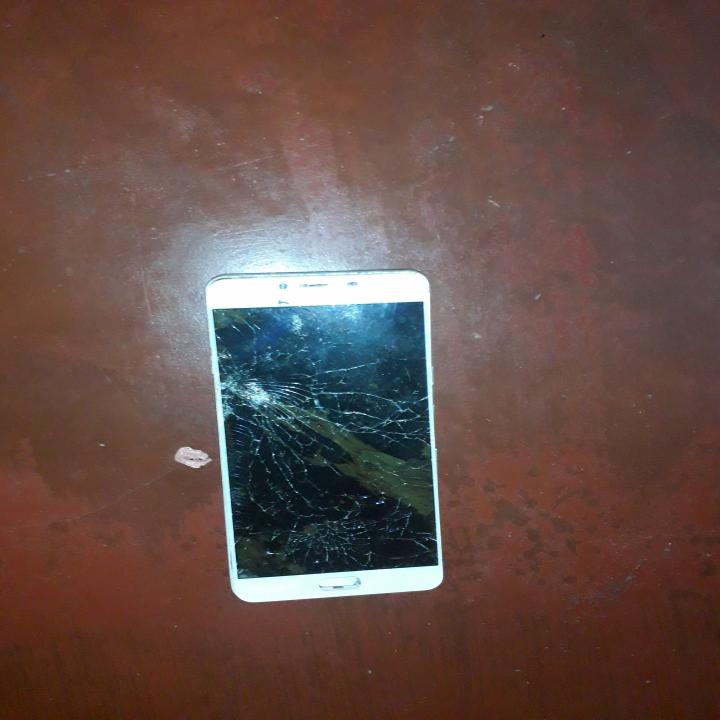Crack: (210, 287, 428, 445), (230, 447, 440, 574)
